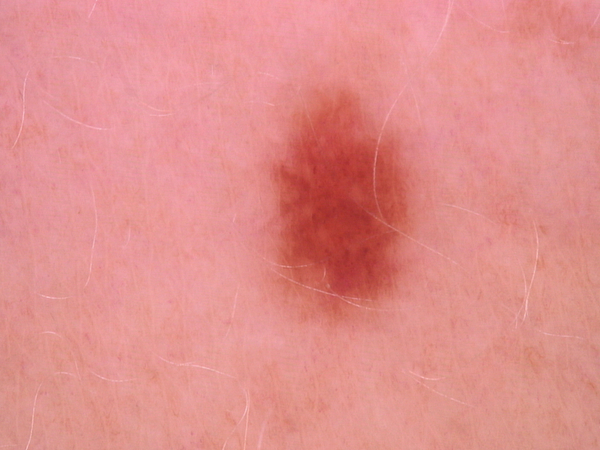Detected Lesion: (264, 85, 418, 327)
